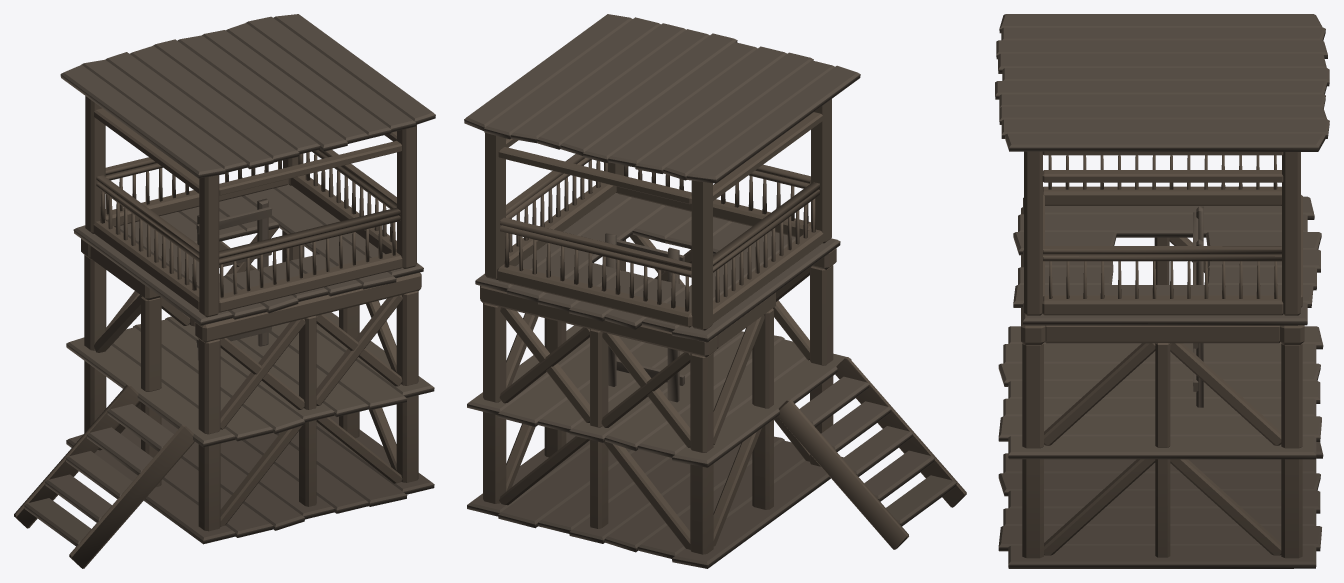
Rendered from farm_lookout.glb.
The picture shows the model from 3 angles, left to right: view 1: azimuth 30°, elevation 25°; view 2: azimuth 150°, elevation 25°; view 3: azimuth 270°, elevation 25°; orthographic projection. The views are drawn at different scales.
Parts seen in each view (by area): view 1: farm_lookout; view 2: farm_lookout; view 3: farm_lookout.
Part boxes in pixels (left/top/right/bottom): farm_lookout: left=14, top=14, right=435, bottom=568; farm_lookout: left=464, top=14, right=966, bottom=568; farm_lookout: left=995, top=14, right=1329, bottom=568.
Size of the model in its own units: 5.29 by 5.42 by 3.82.
Materials: 1 (1 with a texture image).
